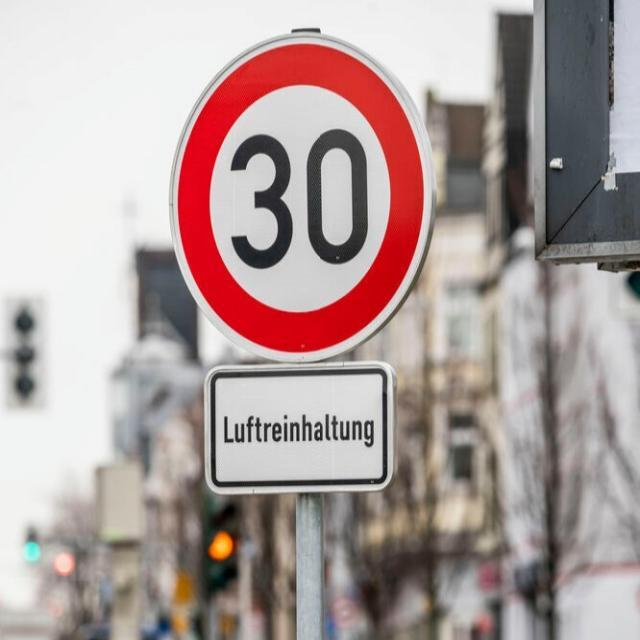Speed Limit -30-: (170, 34, 432, 358)
